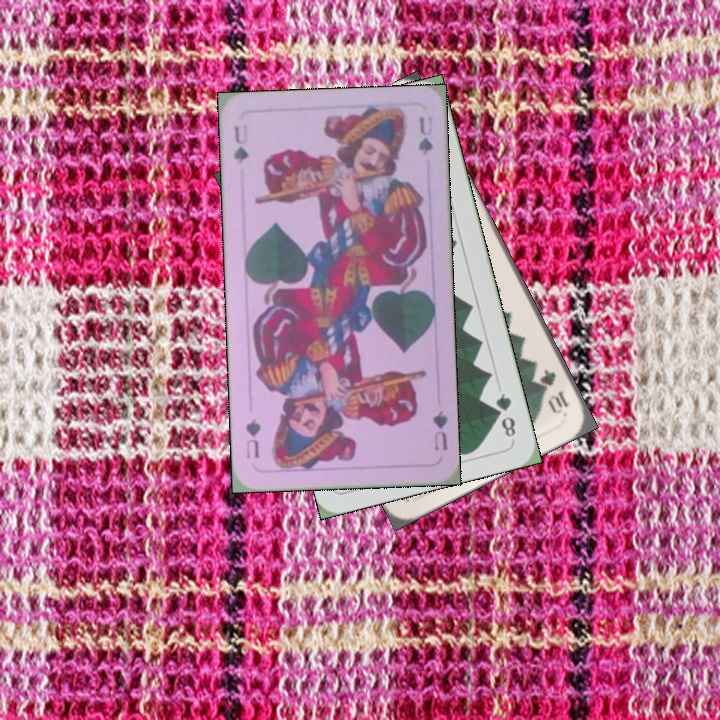G10: (535, 365, 572, 417)
G8: (491, 389, 519, 440)
GU: (429, 407, 450, 453), (230, 121, 251, 167)
